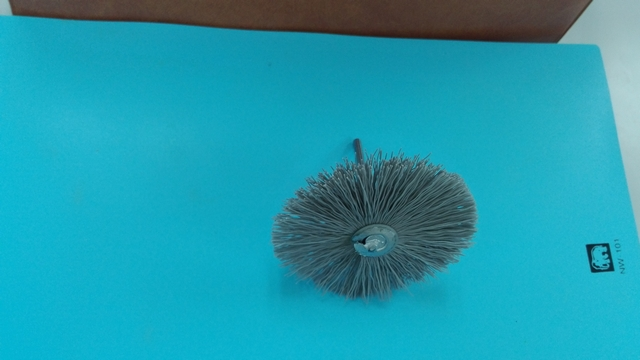TOOL: (243, 101, 533, 352)
